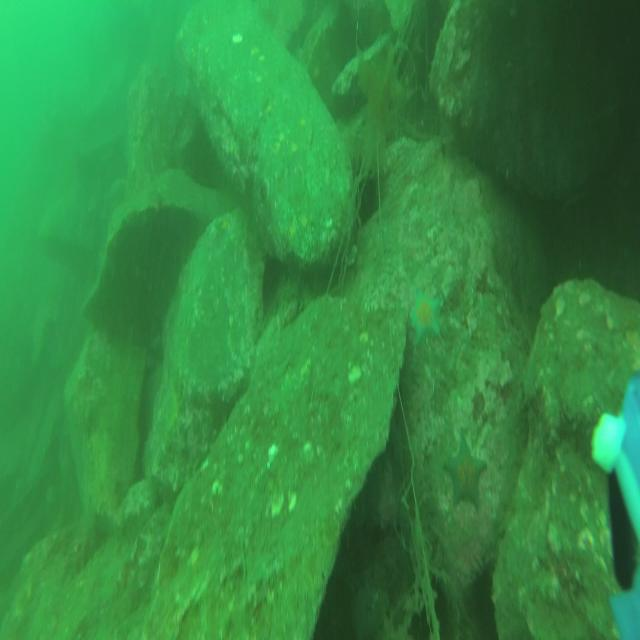starfish: (442, 426, 486, 516), (403, 282, 443, 347)
